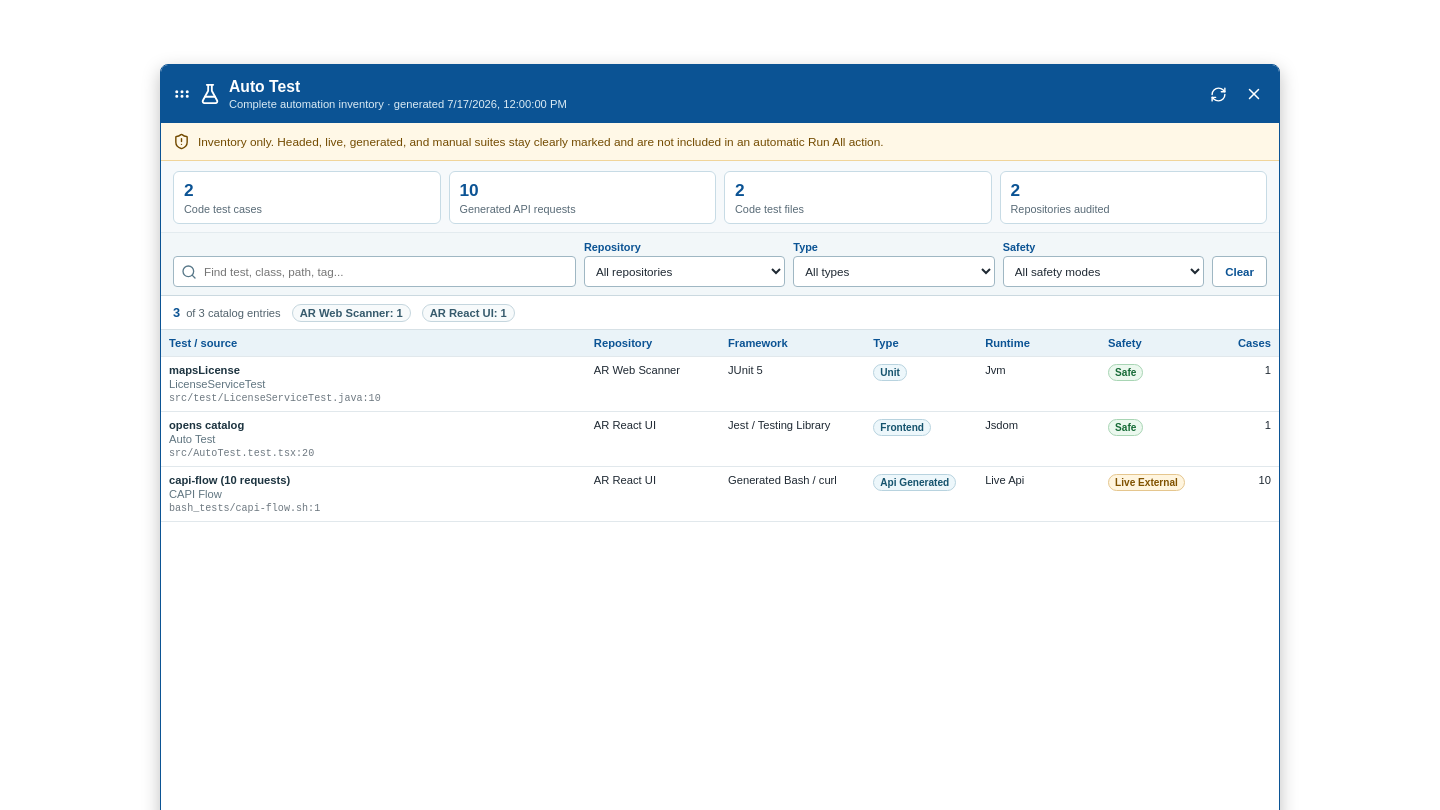
Scenario: lists the complete catalog and filters by repository, type, safety, and text
expect the number of rows is 4: met, box [161,330,1279,356]; [161,356,1279,412]; [161,412,1279,466]; [161,466,1279,522]
Select "AR Web Scanner" in the dropdown named "Filter by repository" at (685, 272), box [584,256,785,287]
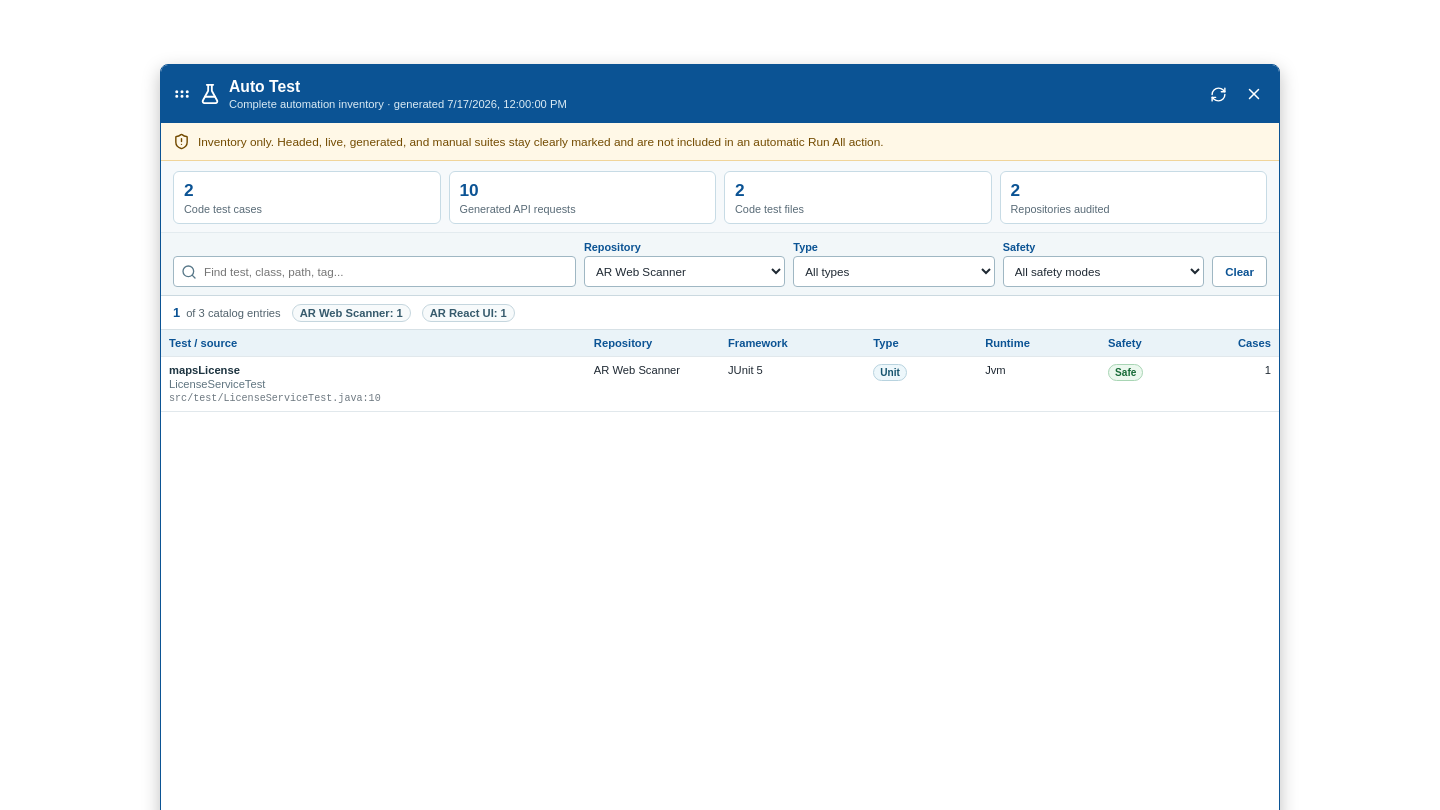
expect the text "mapsLicense" is shown: met, box [169,364,240,376]
expect the number of rows is 2: met, box [161,330,1279,356]; [161,356,1279,412]
Click the button "Clear" at (1240, 272), box [1212,256,1267,287]
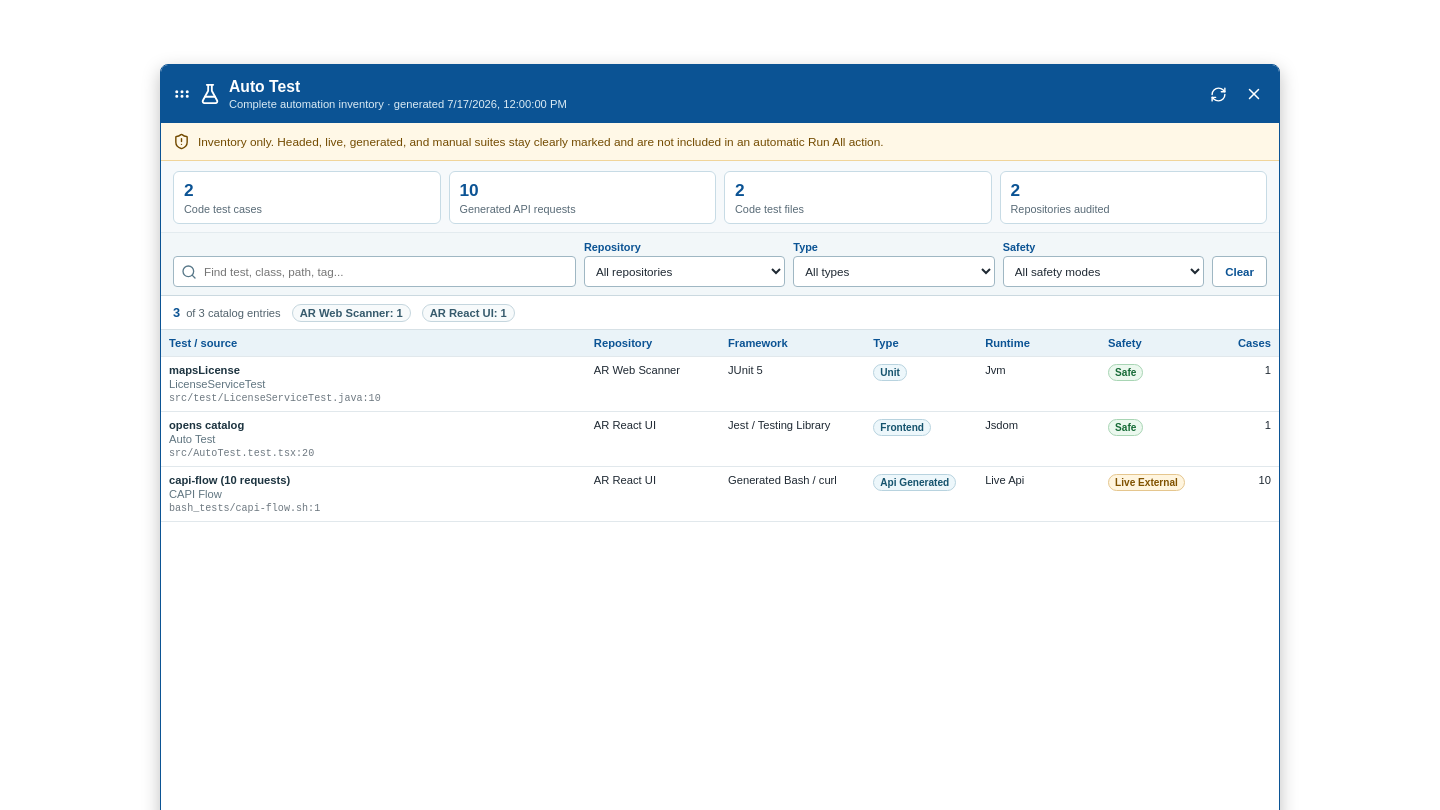
Select "Api Generated" in the dropdown named "Filter by test type" at (894, 272), box [793,256,995,287]
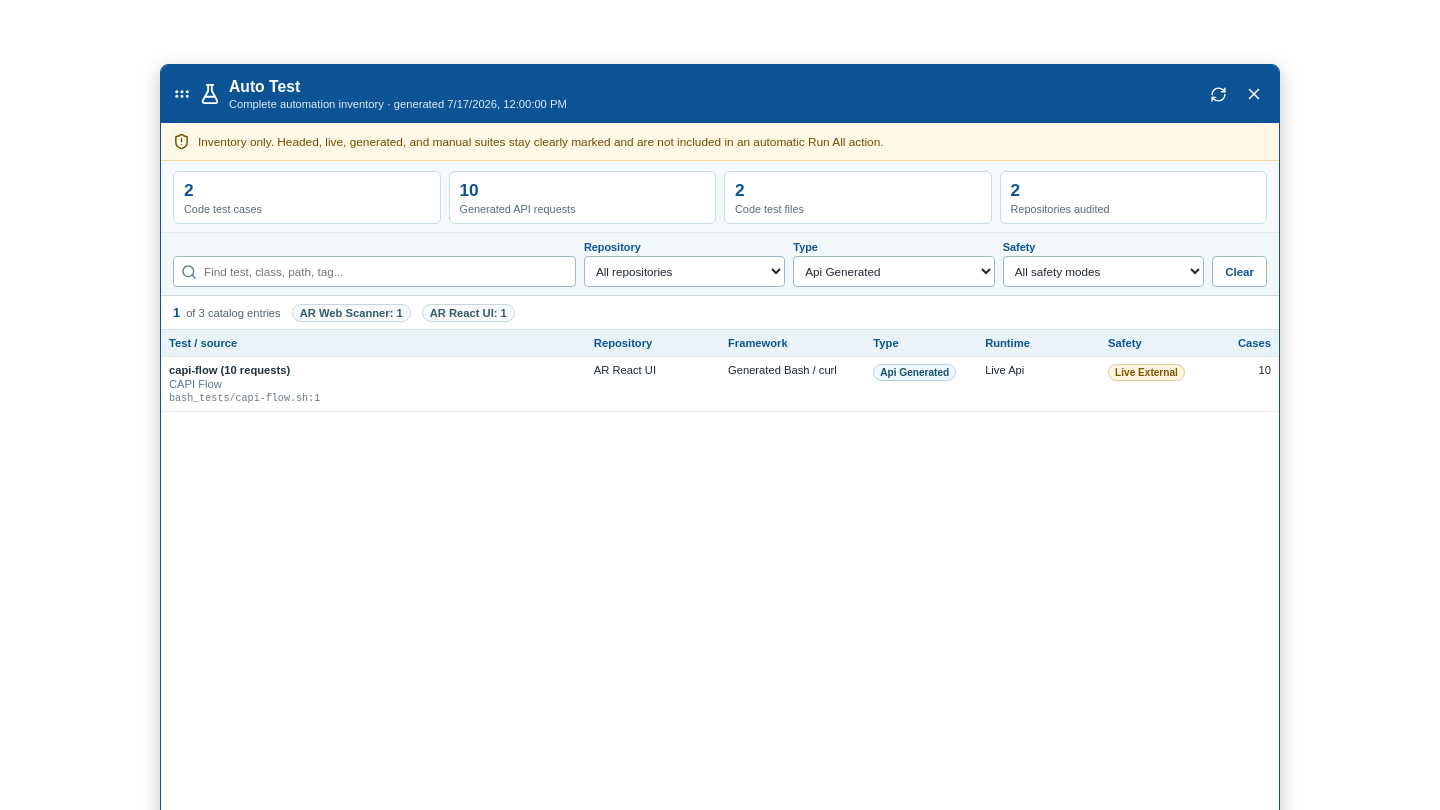
expect the text "capi-flow (10 requests)" is shown: met, box [169,364,290,376]
Click the button "Clear" at (1240, 272), box [1212,256,1267,287]
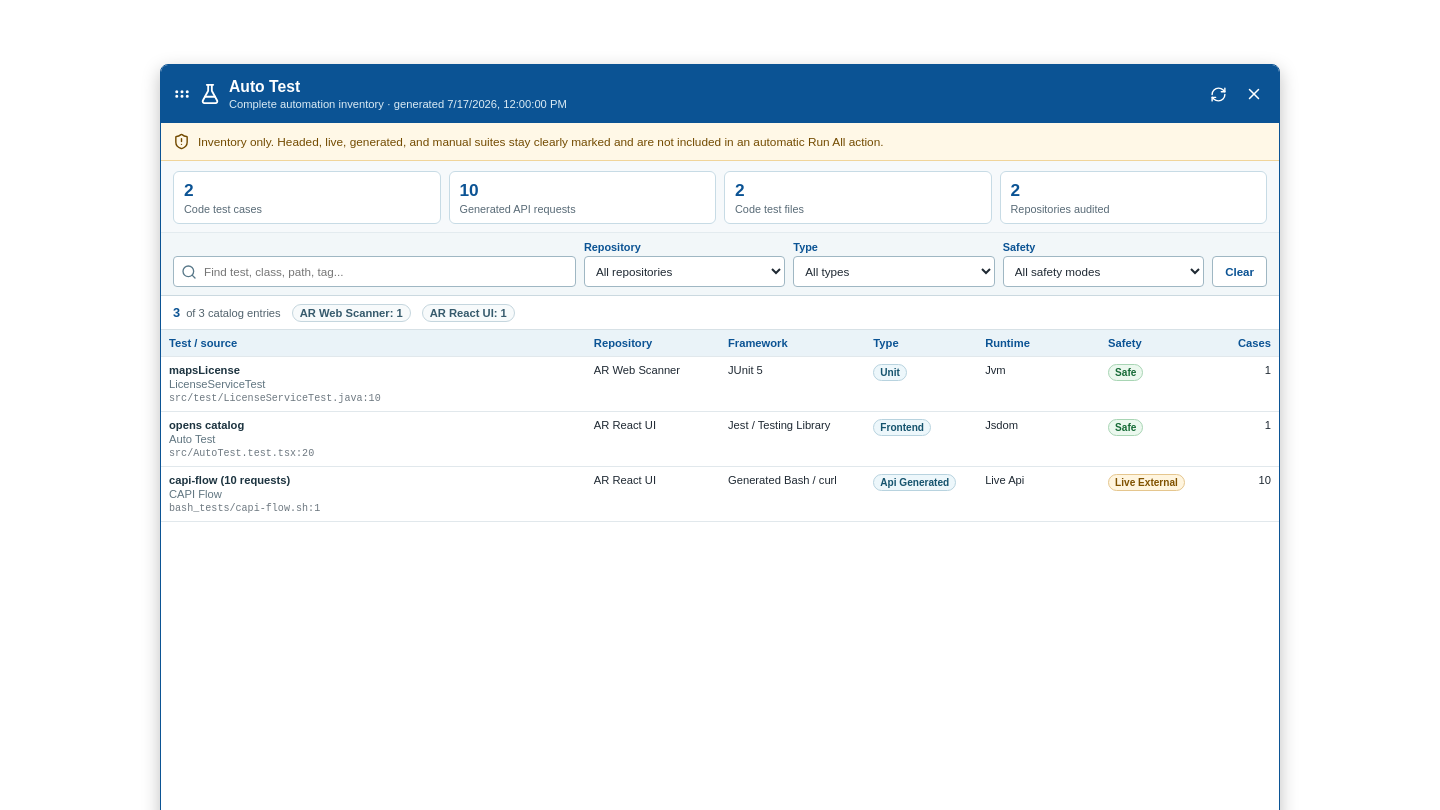
Type "opens catalog" into the field named "Find tests" at (374, 272), box [173,256,576,287]
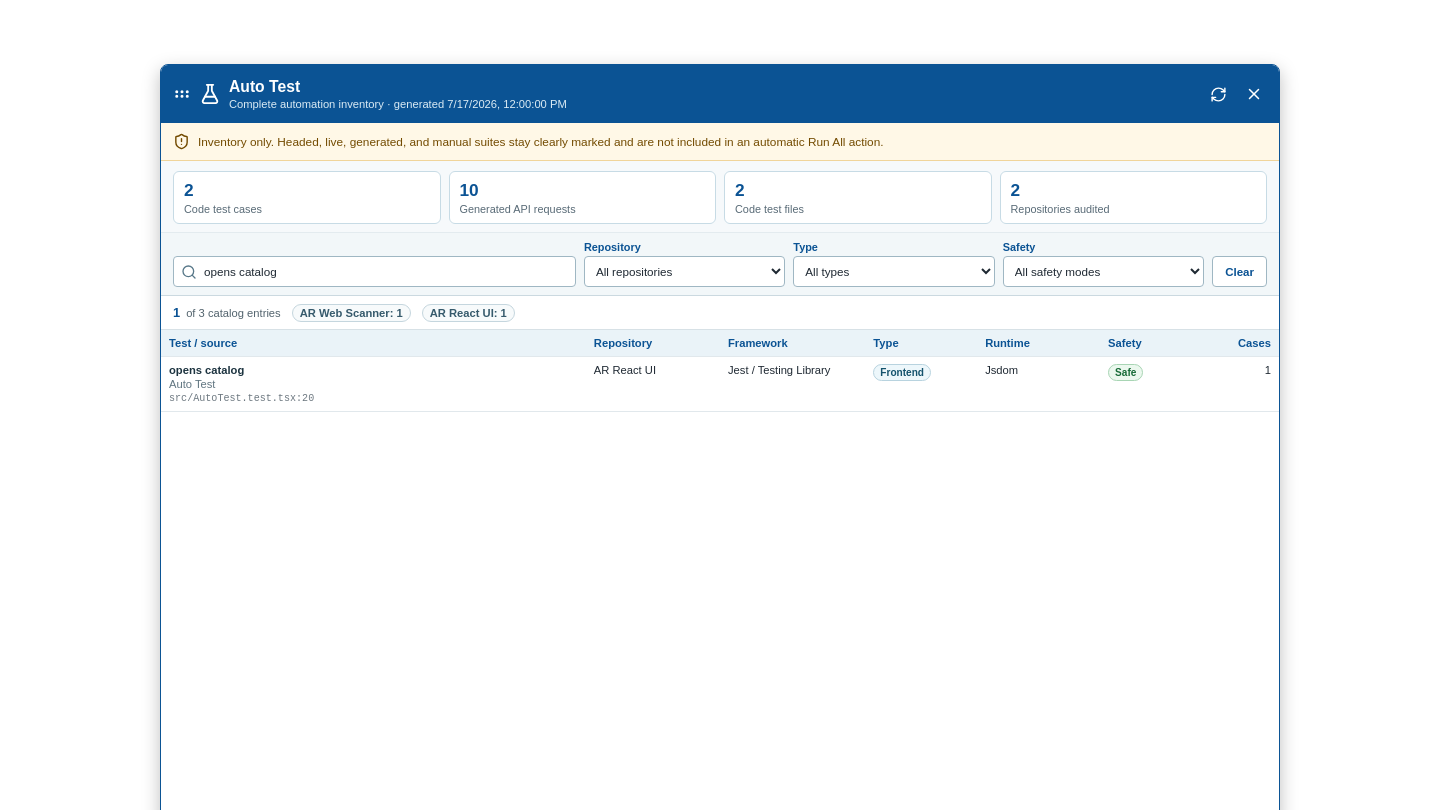
expect the text "opens catalog" is shown: met, box [169,364,244,376]
expect the text "mapsLicense" is gone: met
